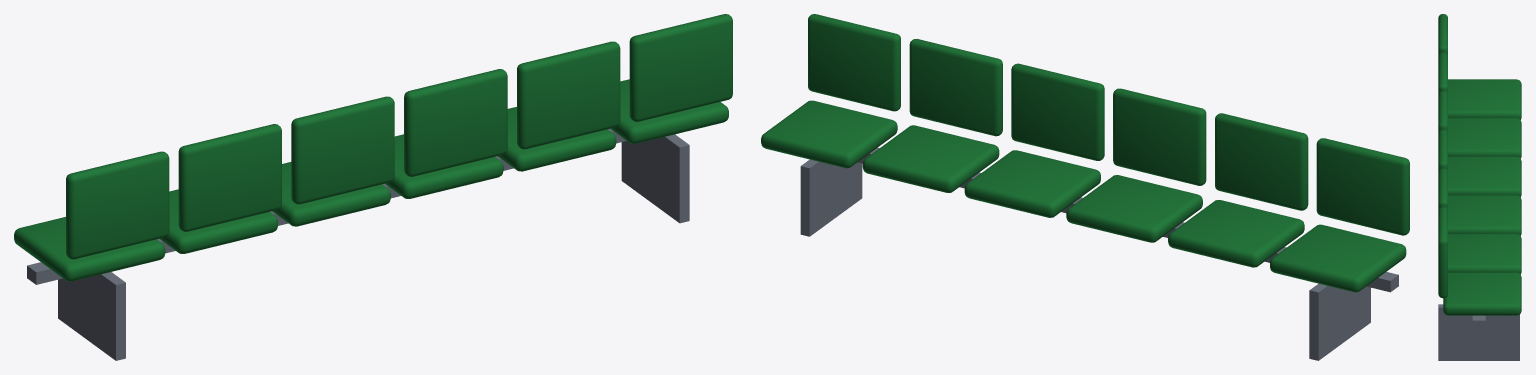
Rendered from hospital.ward.waiting_row.glb.
The picture shows the model from 3 angles, left to right: view 1: azimuth 30°, elevation 25°; view 2: azimuth 150°, elevation 25°; view 3: azimuth 270°, elevation 25°; orthographic projection. The views are drawn at different scales.
Visible parts, largest first — view 1: main__plastic_green, main__steel_painted; view 2: main__plastic_green, main__steel_painted; view 3: main__plastic_green, main__steel_painted.
Part boxes in pixels (x1,y1,x2,y2): main__plastic_green: (14,14,732,281); main__steel_painted: (27,129,689,360); main__plastic_green: (761,14,1409,292); main__steel_painted: (800,147,1398,360); main__plastic_green: (1438,14,1521,315); main__steel_painted: (1438,304,1519,360).
Size of the model in its own units: 3.4 by 0.92 by 0.51.
